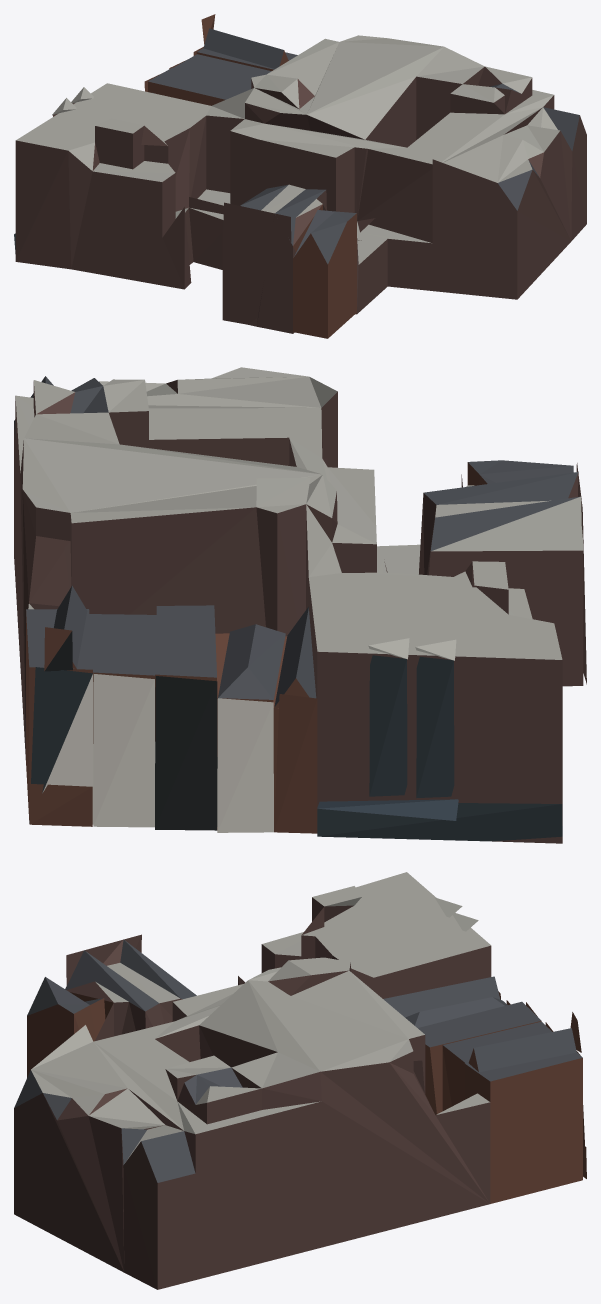
Rendered from barbizon-palace.lod2.glb.
The picture shows the model from 3 angles, top to bottom: view 1: azimuth 30°, elevation 25°; view 2: azimuth 150°, elevation 25°; view 3: azimuth 270°, elevation 25°; orthographic projection. The views are drawn at different scales.
Parts seen in each view (by area): view 1: lod2; view 2: lod2; view 3: lod2.
Boxes of the visible parts, x1,y1,x2,y2 form: lod2: (14,14,586,338); lod2: (14,367,586,843); lod2: (14,872,586,1289).
Bounding box in the file's own units: 73.2 × 22.92 × 64.9.
